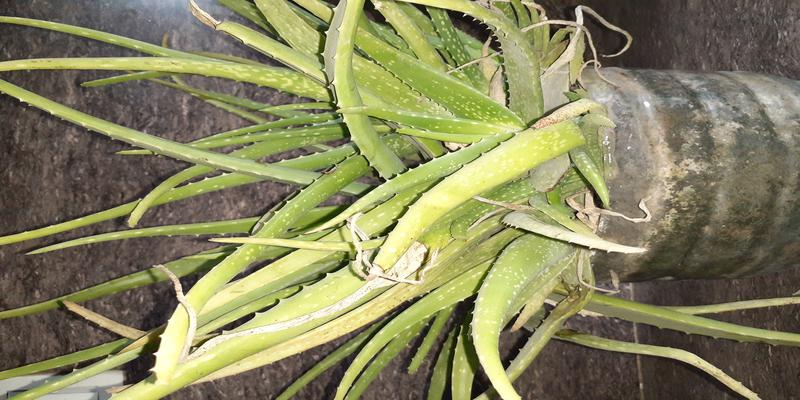Aloevera: (176, 7, 610, 400)
